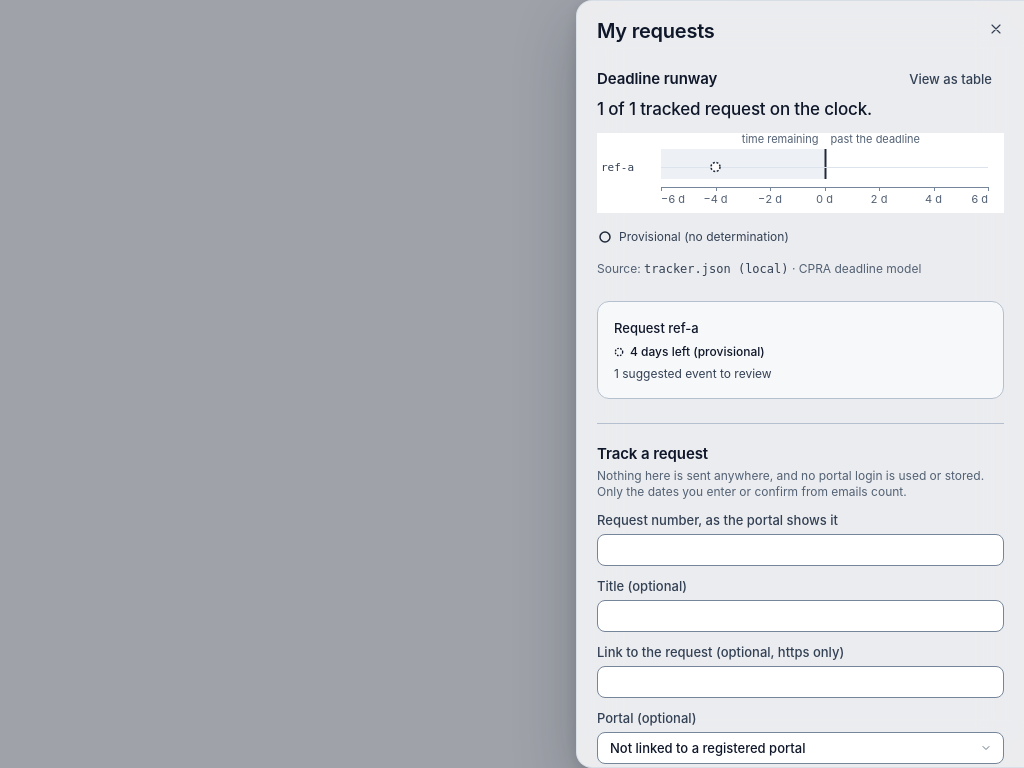
Test: MyRequestsPanel › cannot confirm a suggested extension notice until a statutory reason is chosen
Click the button "ref-a".
click(656, 328)  # box [597,301,1004,399]
(page scrolled)
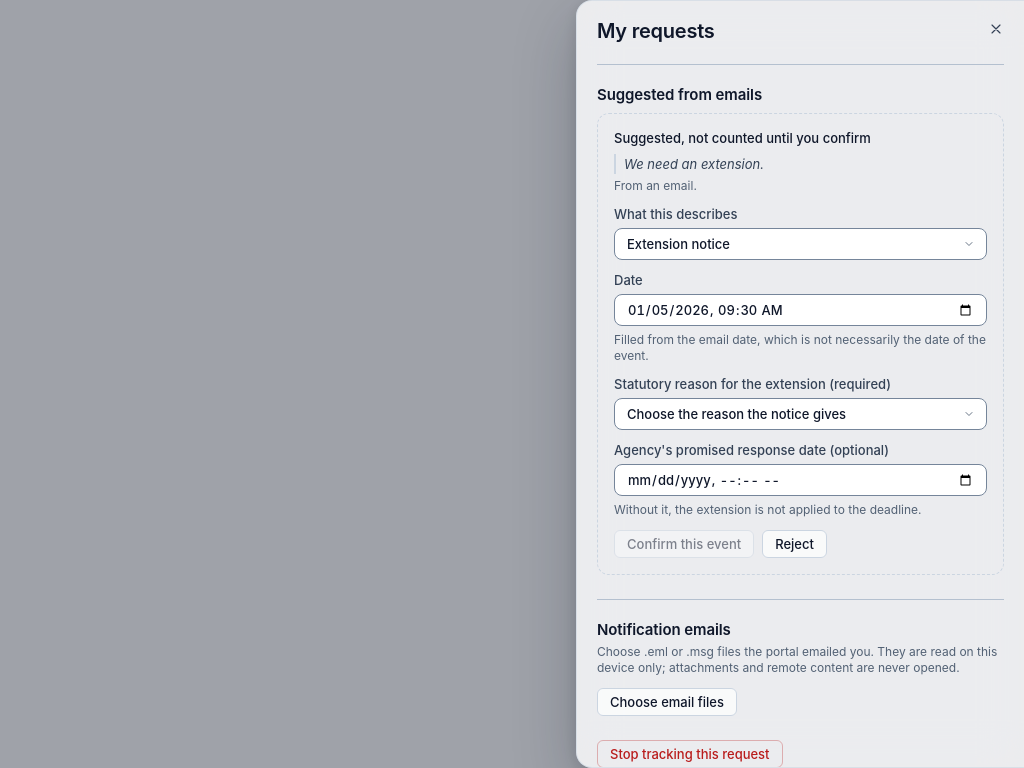
Result: the button "Confirm this event" is disabled at [614,530,754,558]
Select "Voluminous records" in the dropdown labelled "Statutory reason for the extension (required)" at coordinates (800, 414), box [614,398,987,430]
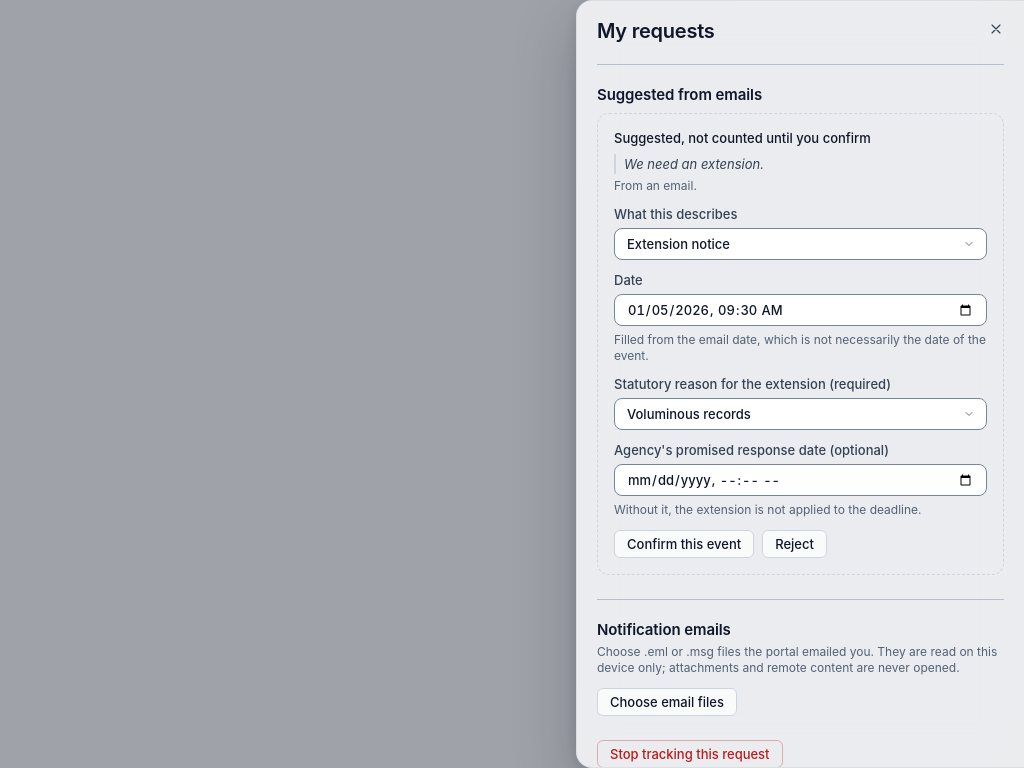
Result: the button "Confirm this event" is enabled at [614,530,754,558]
